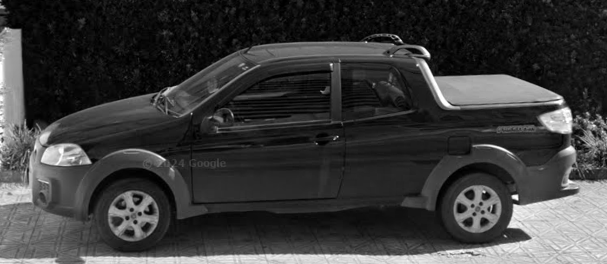car: (29, 41, 580, 255)
